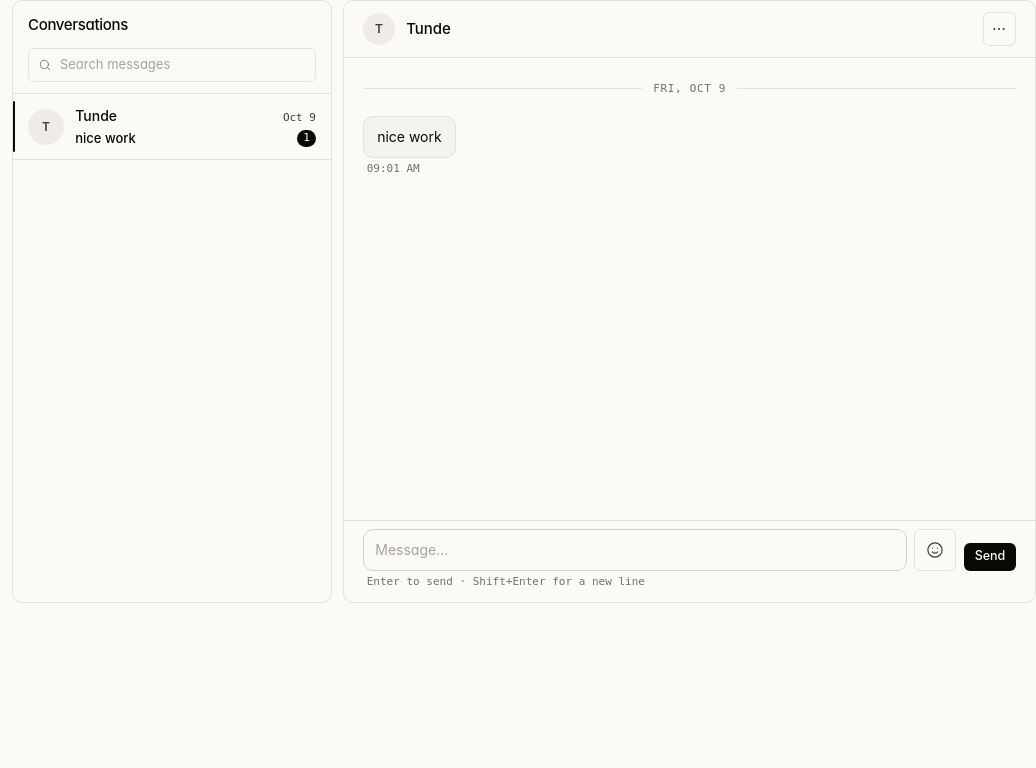
it: reactions (optimistic with rollback) › rolls back and says so when the server refuses
Right-click the text "nice work" at (409, 137), box x1=363 y1=116 x2=456 y2=158
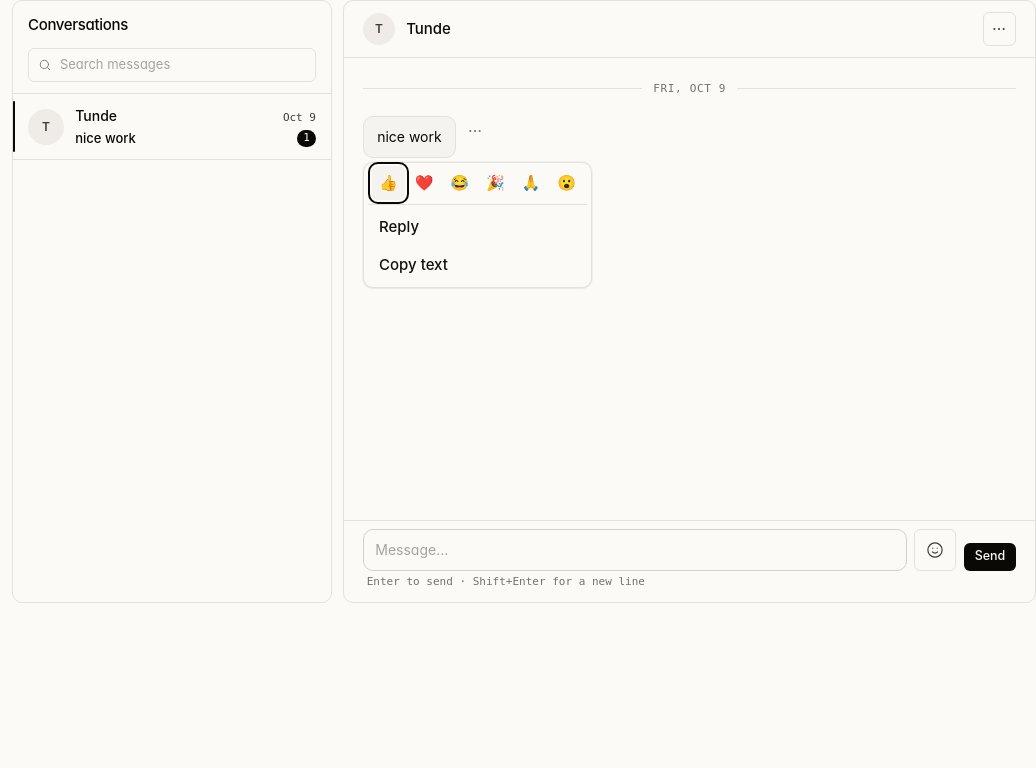
Click the menu item named "Heart" at (424, 183), box x1=407 y1=166 x2=441 y2=200
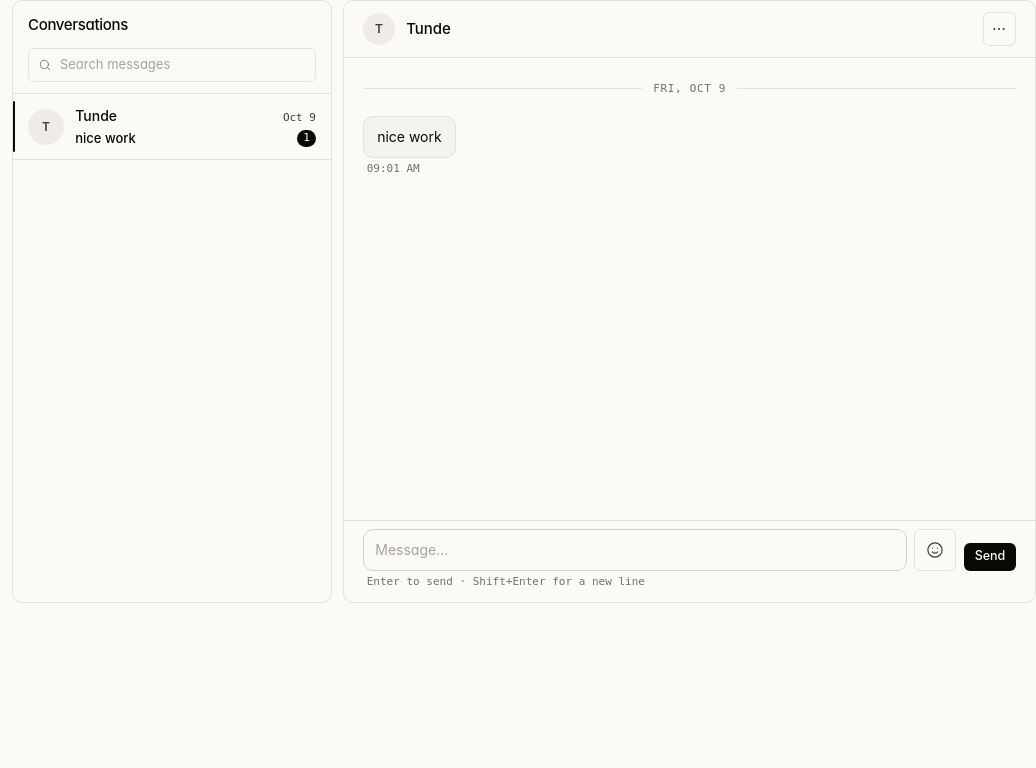
Now the menu item "Heart" is gone
